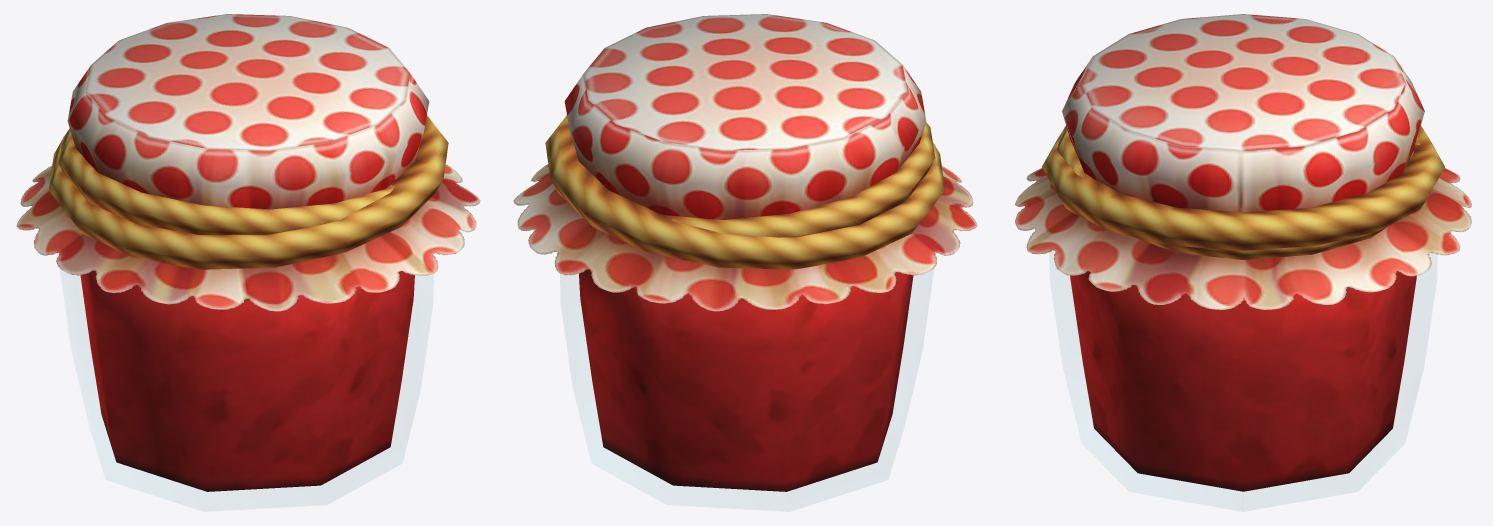
The model's file is SE_Jar_01.fbx.
3 renders of one model, left to right at view 1: azimuth 30°, elevation 25°; view 2: azimuth 150°, elevation 25°; view 3: azimuth 270°, elevation 25°, orthographic.
Visible parts, largest first — view 1: SE_Jar_01; view 2: SE_Jar_01; view 3: SE_Jar_01.
Part boxes in pixels (x1,y1,x2,y2): SE_Jar_01: (16,14,480,491); SE_Jar_01: (513,14,977,491); SE_Jar_01: (1015,14,1471,511).
Bounding box in the file's own units: 1.25 × 1.1 × 1.25.
